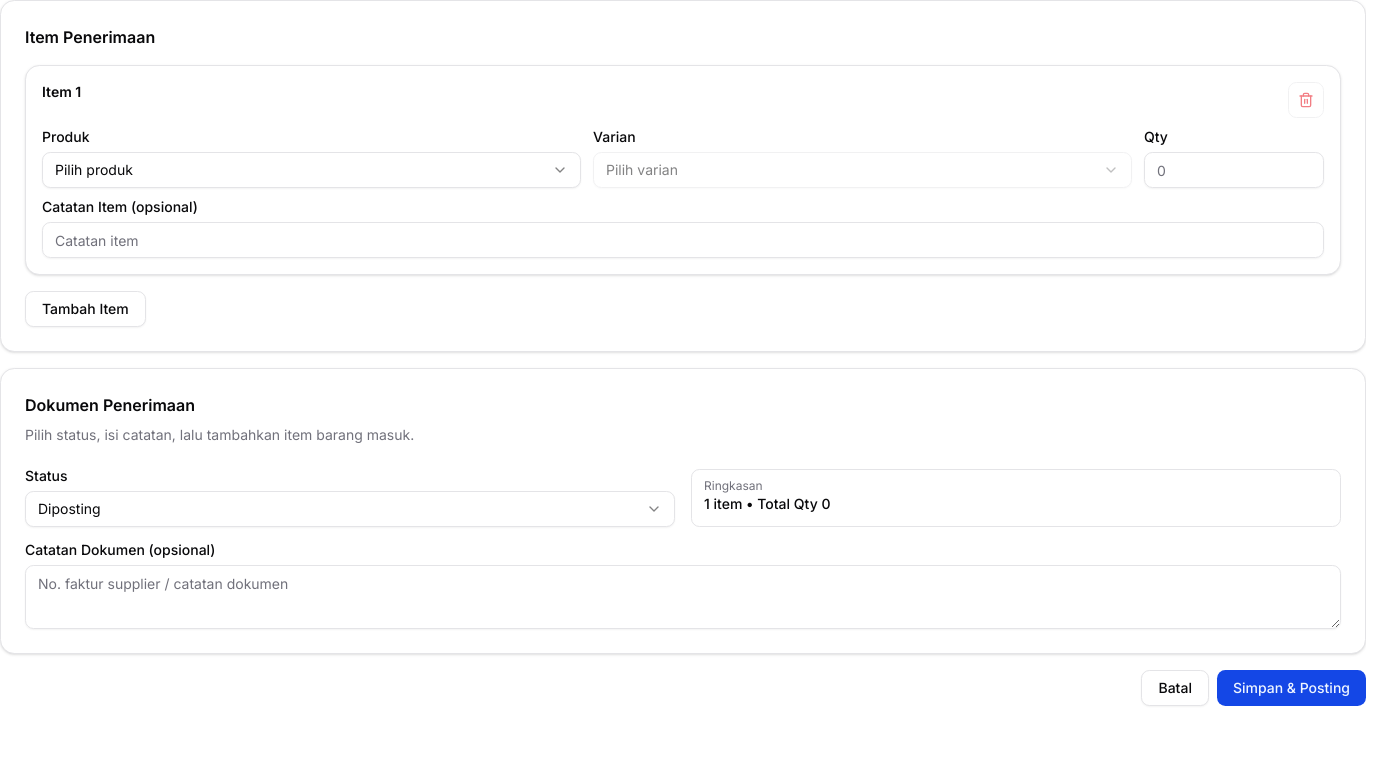
Test: CreateReceivingForm › does not show variant error right after product is selected
Click the dropdown labelled "produk": (94,170) [42,152,581,188]
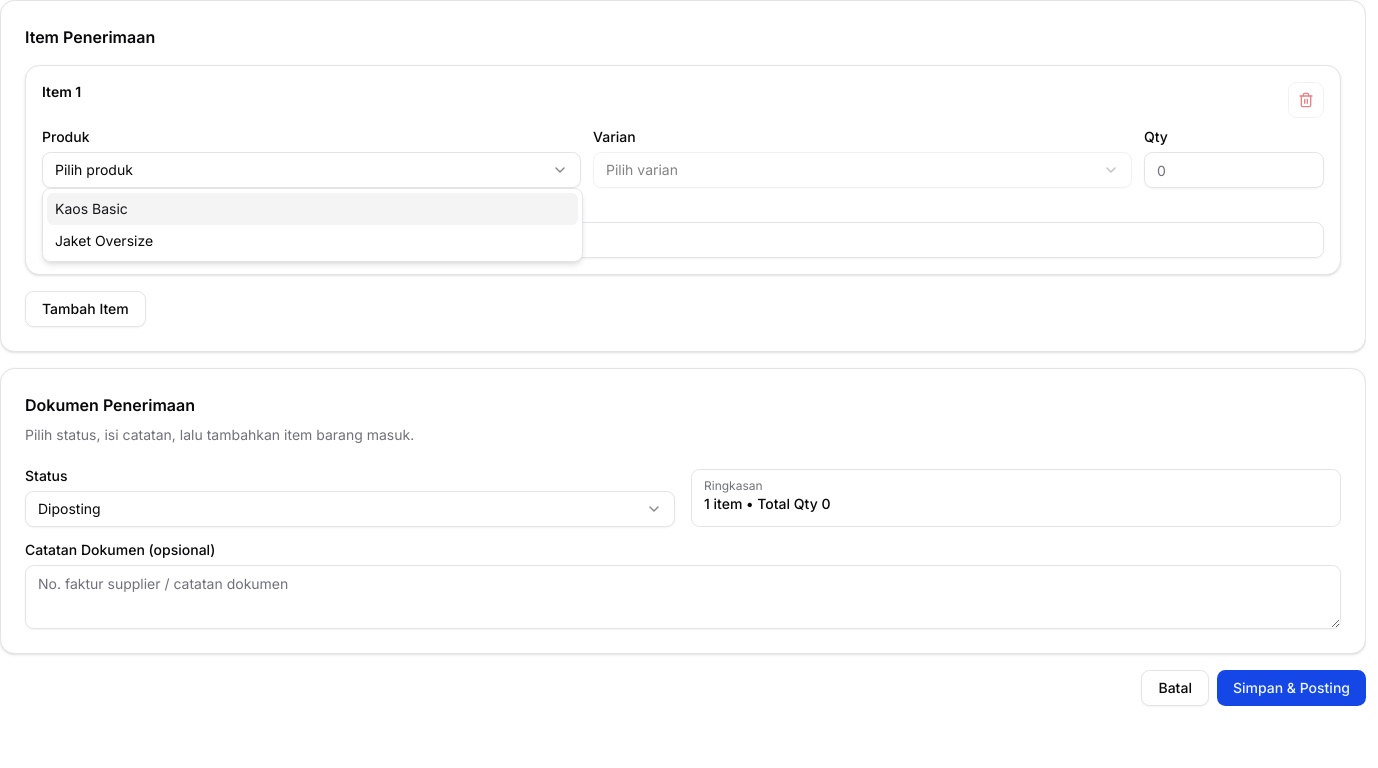
Click the option "Kaos Basic": (91,208) [47,193,578,225]
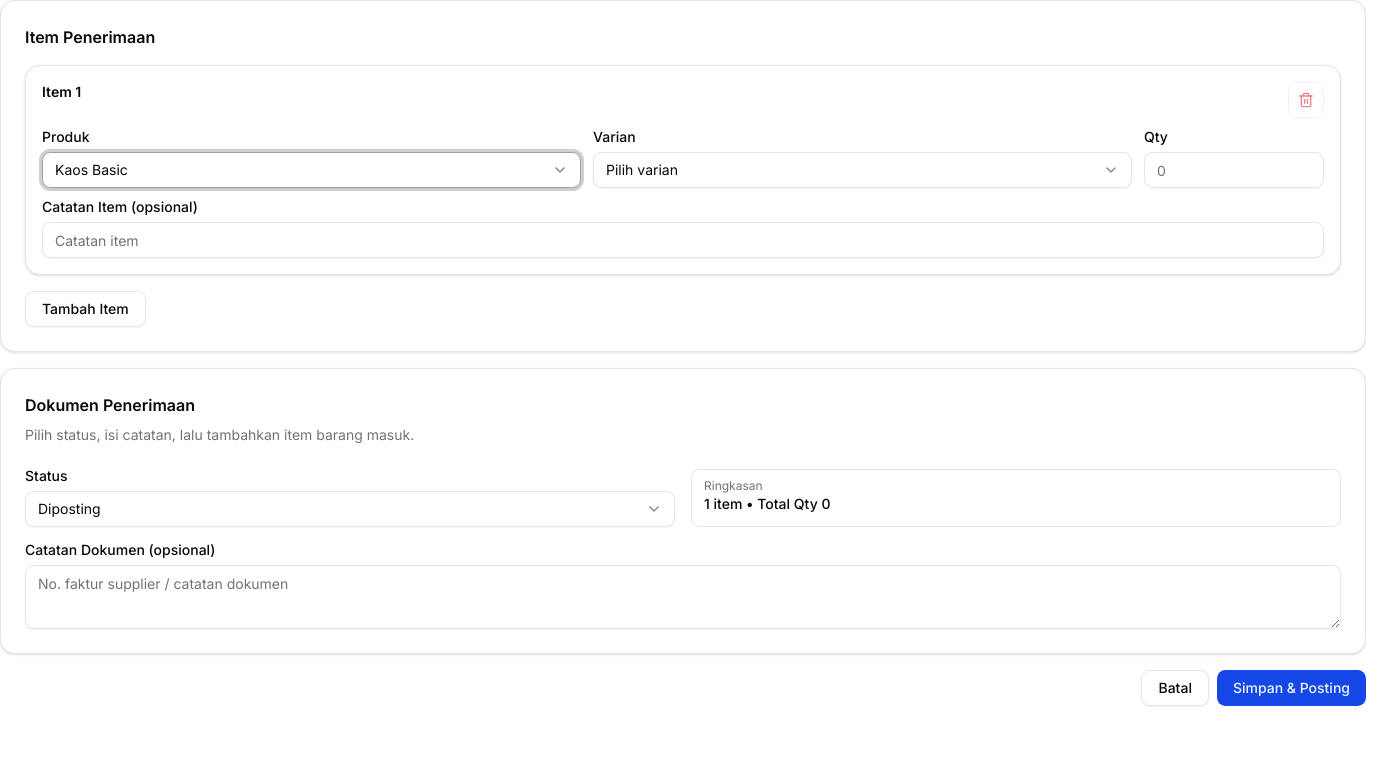
Result: the dropdown labelled "varian" is enabled at [593,152,1132,188]
